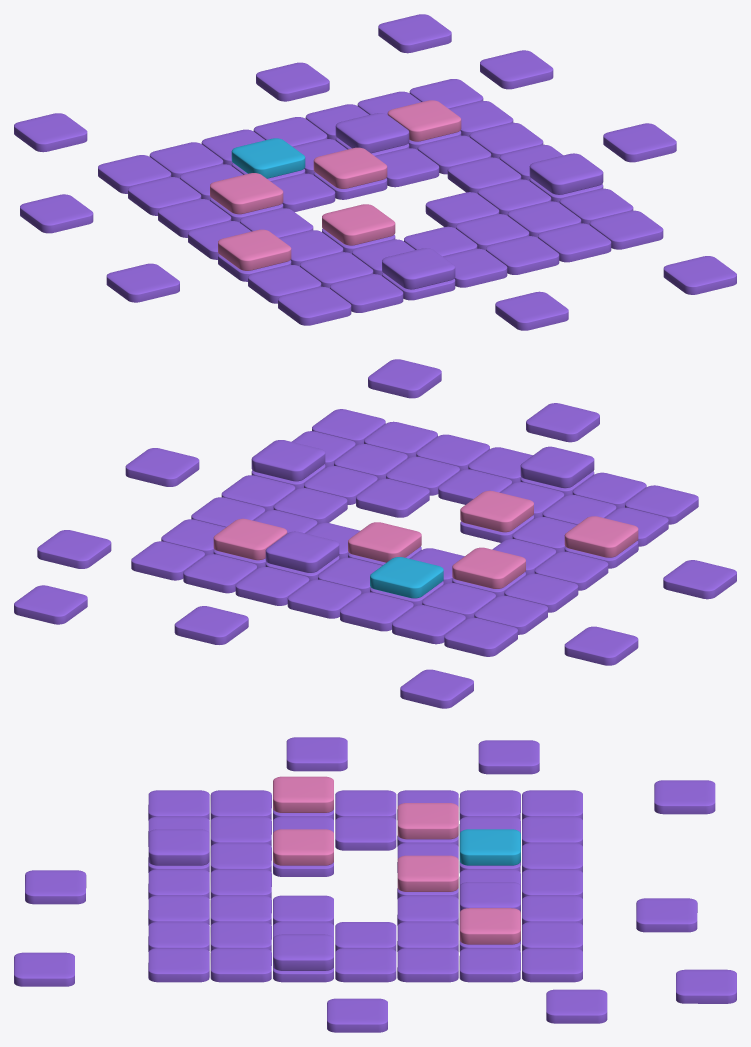
The model's file is Level8.glb.
The picture shows the model from 3 angles, top to bottom: view 1: azimuth 30°, elevation 25°; view 2: azimuth 150°, elevation 25°; view 3: azimuth 270°, elevation 25°; orthographic projection. The views are drawn at different scales.
Visible parts, largest first — view 1: block.004, wall.002, wall, wall.003, block.002, wall.001, block, block.001, platform.053, platform.049, platform.054, platform.007 (+45 smaller); view 2: block.001, block.002, wall.001, block.004, block, wall, wall.003, wall.002, platform.053, platform.007, platform.042, platform.049 (+43 smaller); view 3: wall.003, wall.004, block, wall.002, block.002, wall, block.004, wall.001, platform.014, platform.054, platform.028, platform.007 (+44 smaller).
Part boxes in pixels (x1=…): block.004: x1=529, y1=153, x2=603, y2=194; wall.002: x1=313, y1=147, x2=387, y2=188; wall: x1=322, y1=204, x2=395, y2=245; wall.003: x1=210, y1=173, x2=283, y2=214; block.002: x1=382, y1=248, x2=455, y2=289; wall.001: x1=218, y1=229, x2=291, y2=270; block: x1=231, y1=138, x2=305, y2=178; block.001: x1=335, y1=113, x2=409, y2=153; platform.053: x1=20, y1=194, x2=93, y2=233; platform.049: x1=480, y1=50, x2=553, y2=89; platform.054: x1=106, y1=263, x2=179, y2=302; platform.007: x1=256, y1=62, x2=329, y2=101; block.001: x1=265, y1=531, x2=339, y2=572; block.002: x1=520, y1=446, x2=594, y2=488; wall.001: x1=564, y1=516, x2=638, y2=557; block.004: x1=251, y1=440, x2=325, y2=481; block: x1=370, y1=557, x2=443, y2=598; wall: x1=460, y1=490, x2=533, y2=532; wall.003: x1=452, y1=547, x2=525, y2=588; wall.002: x1=348, y1=522, x2=421, y2=562; platform.053: x1=564, y1=626, x2=638, y2=665; platform.007: x1=174, y1=606, x2=248, y2=644; platform.042: x1=125, y1=448, x2=199, y2=486; platform.049: x1=37, y1=530, x2=111, y2=568; wall.003: x1=397, y1=803, x2=458, y2=839; wall.004: x1=459, y1=908, x2=520, y2=944; block: x1=459, y1=829, x2=520, y2=865; wall.002: x1=397, y1=855, x2=458, y2=891; block.002: x1=148, y1=829, x2=209, y2=865; wall: x1=273, y1=829, x2=333, y2=865; block.004: x1=273, y1=934, x2=333, y2=970; wall.001: x1=273, y1=776, x2=333, y2=812; platform.014: x1=335, y1=816, x2=396, y2=850; platform.054: x1=286, y1=737, x2=347, y2=771; platform.028: x1=335, y1=948, x2=396, y2=982; platform.007: x1=636, y1=898, x2=697, y2=932.
Size of what is drawn, in the model's own units: 26.95 by 1.04 by 28.68.
